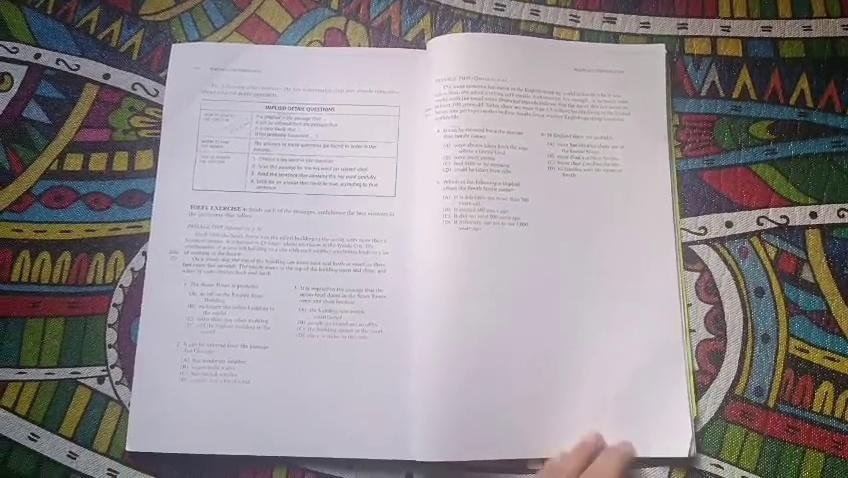Kertas: (173, 50, 470, 459), (398, 51, 664, 422)
